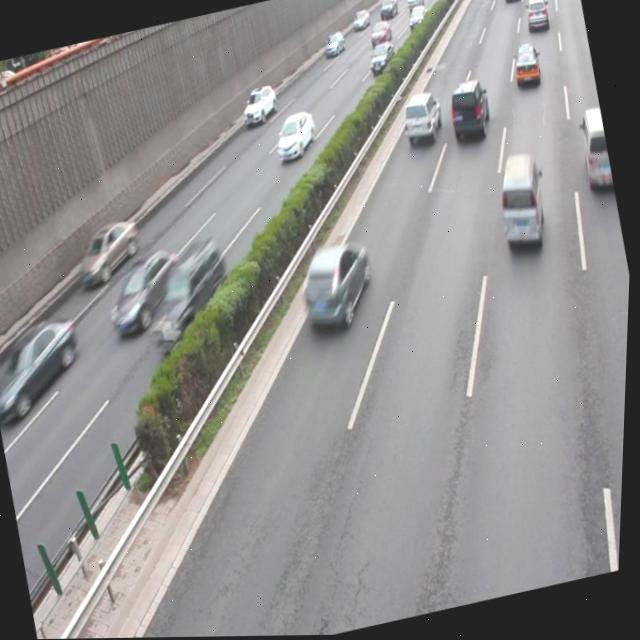car: (133, 230, 242, 356), (0, 312, 94, 421), (293, 234, 384, 338), (99, 245, 194, 339), (71, 215, 149, 290), (443, 78, 495, 144), (397, 88, 447, 149), (270, 109, 320, 164), (238, 84, 281, 128), (508, 45, 544, 91)
truck: (488, 150, 552, 250), (574, 107, 617, 194)
